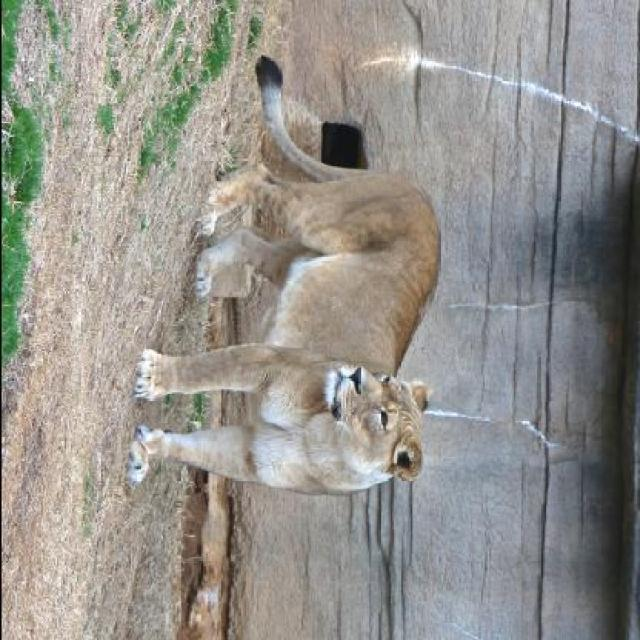Lion: (109, 57, 454, 512)
